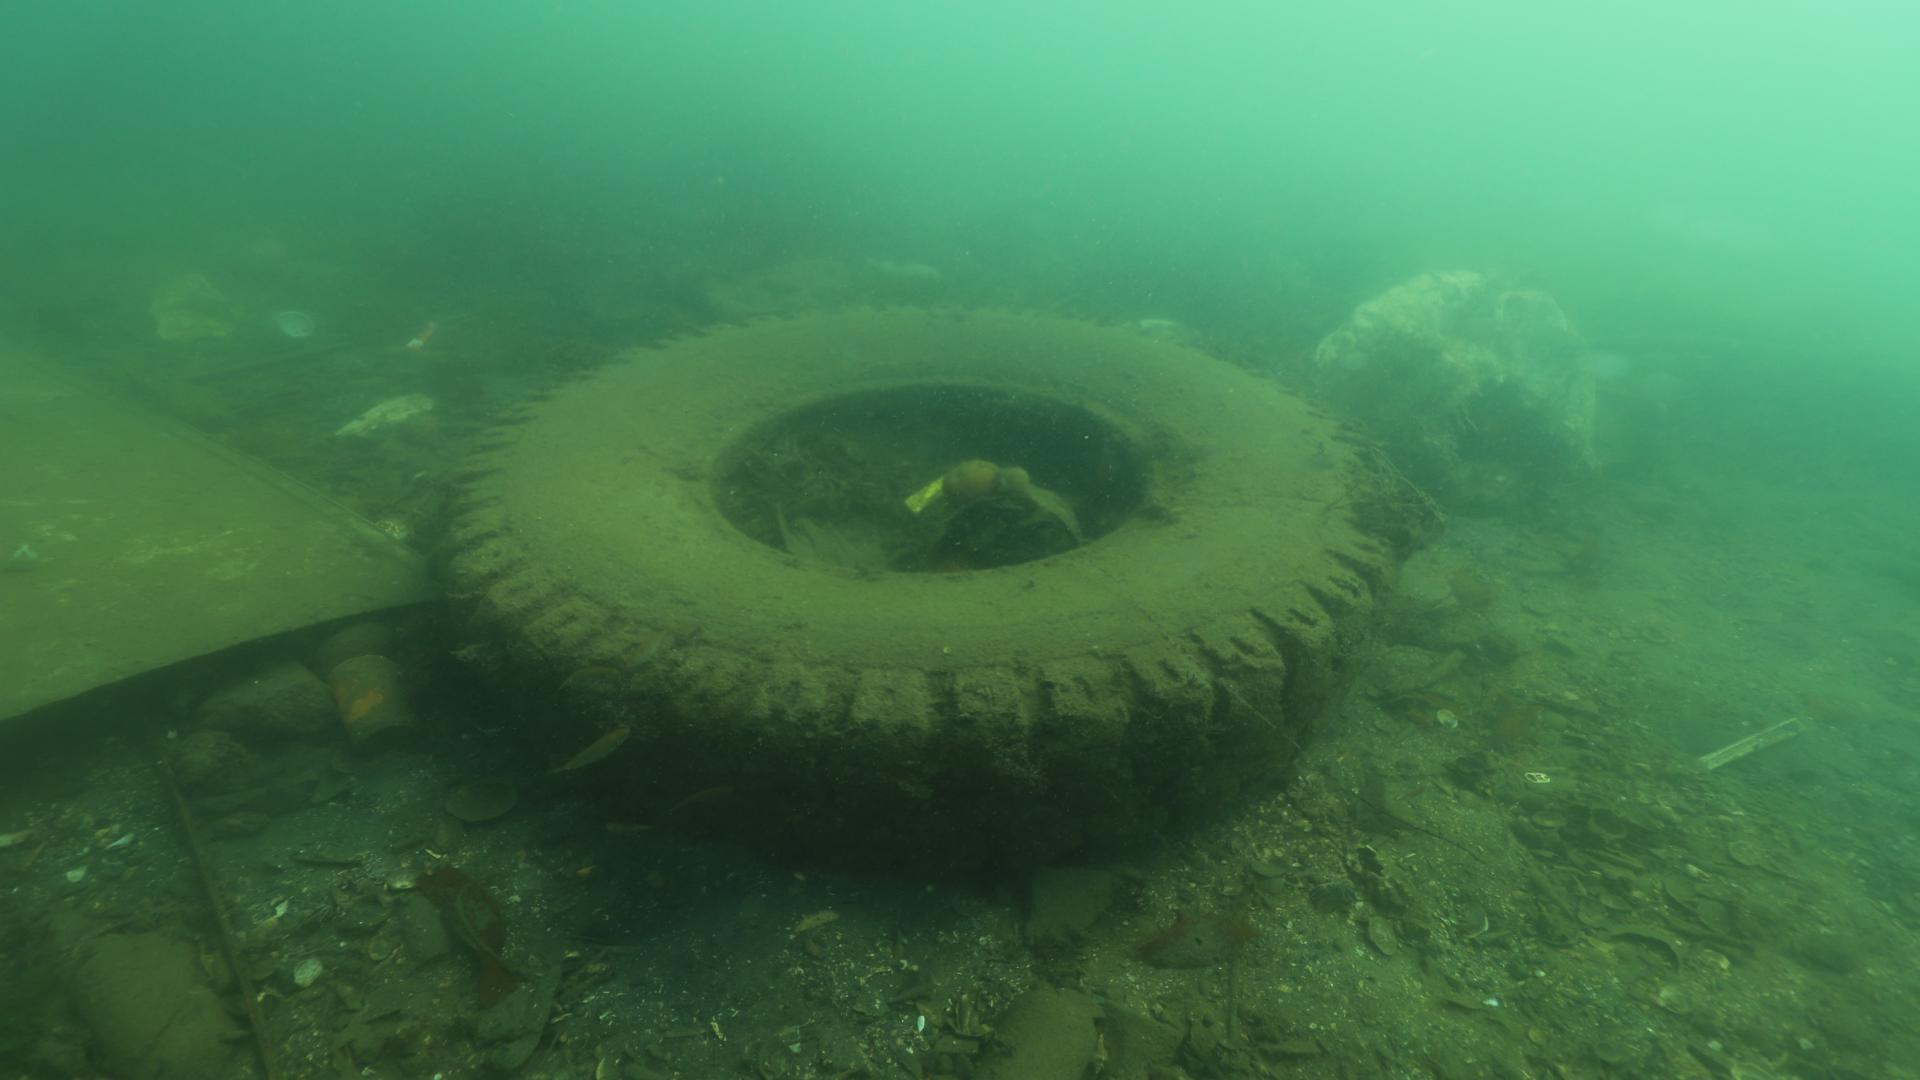tire: (438, 297, 1393, 860)
